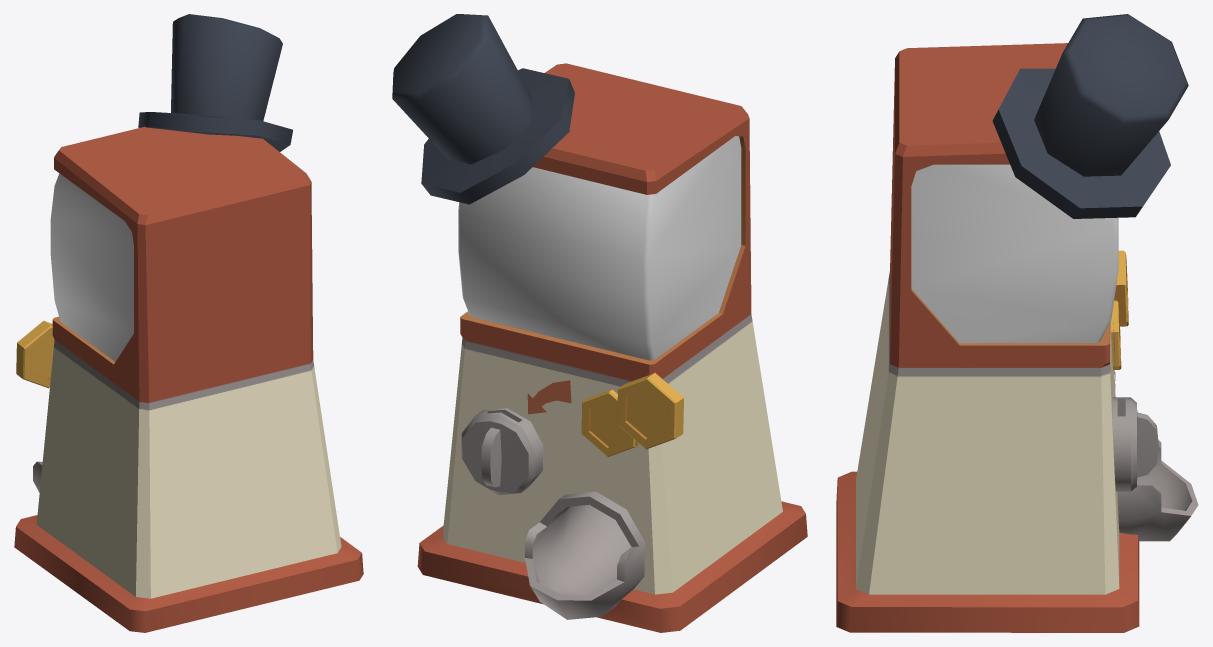
File: gacha machine new.fbx
3 views of the same model, side by side, from view 1: azimuth 30°, elevation 25°; view 2: azimuth 150°, elevation 25°; view 3: azimuth 270°, elevation 25° (orthographic). The views are drawn at different scales.
Parts seen in each view (by area): view 1: machine, machine glass; view 2: machine, machine glass, knob; view 3: machine, machine glass, knob.
Boxes of the visible parts, x1=… form: machine: x1=14, y1=14, x2=363, y2=632; machine glass: x1=50, y1=173, x2=133, y2=361; machine: x1=392, y1=14, x2=807, y2=632; machine glass: x1=458, y1=136, x2=741, y2=360; knob: x1=461, y1=408, x2=543, y2=495; machine: x1=836, y1=14, x2=1198, y2=632; machine glass: x1=911, y1=164, x2=1118, y2=343; knob: x1=1112, y1=397, x2=1158, y2=491.
Size of the model in its own units: 6.77 by 12.4 by 6.91.
